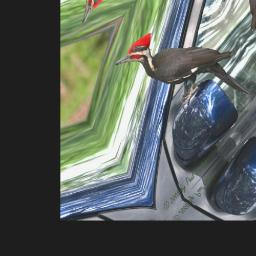Woodpecker: (113, 0, 256, 168)
